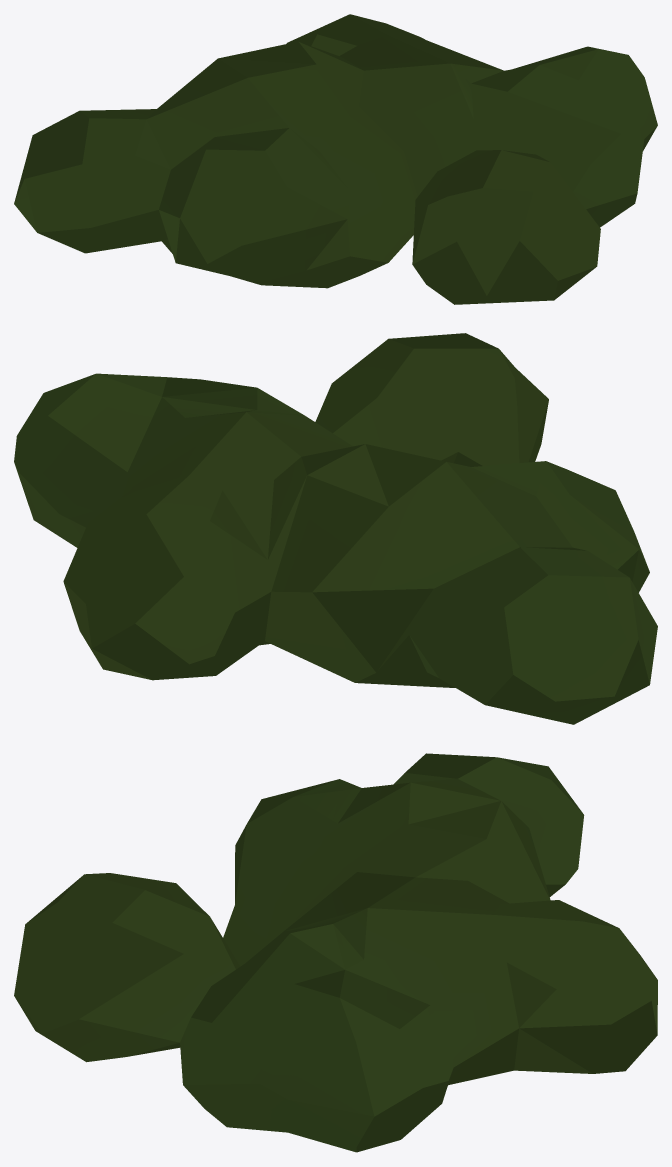
Rendered from enchanted_SM_Env_Moss_Lumps_01.gltf.
3 views of the same model, one above another, from view 1: azimuth 30°, elevation 25°; view 2: azimuth 150°, elevation 25°; view 3: azimuth 270°, elevation 25° (orthographic). The views are drawn at different scales.
Parts seen in each view (by area): view 1: SM_Env_Moss_Lumps_01; view 2: SM_Env_Moss_Lumps_01; view 3: SM_Env_Moss_Lumps_01.
Boxes of the visible parts, x1,y1,x2,y2 form: SM_Env_Moss_Lumps_01: (14,14,657,304); SM_Env_Moss_Lumps_01: (14,333,657,724); SM_Env_Moss_Lumps_01: (14,753,657,1152).
Bounding box in the file's own units: 5.15 × 1.54 × 4.34.
1 material, 1 textured.
